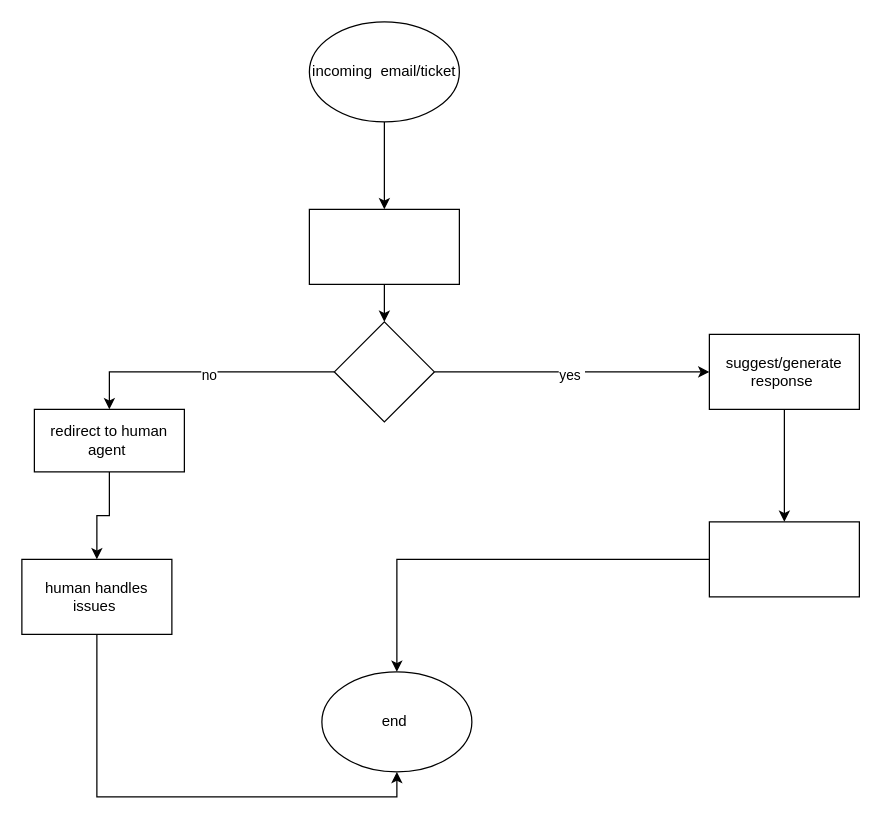
This 881x829 diagram has some shape labels left out. The shapes that lost their labels are listed below. From the top down, each one's centre as x and y in pixels, then its label:
At point (383, 246): "all analysis and categories".
At point (383, 371): "common query".
At point (783, 559): "send response".
